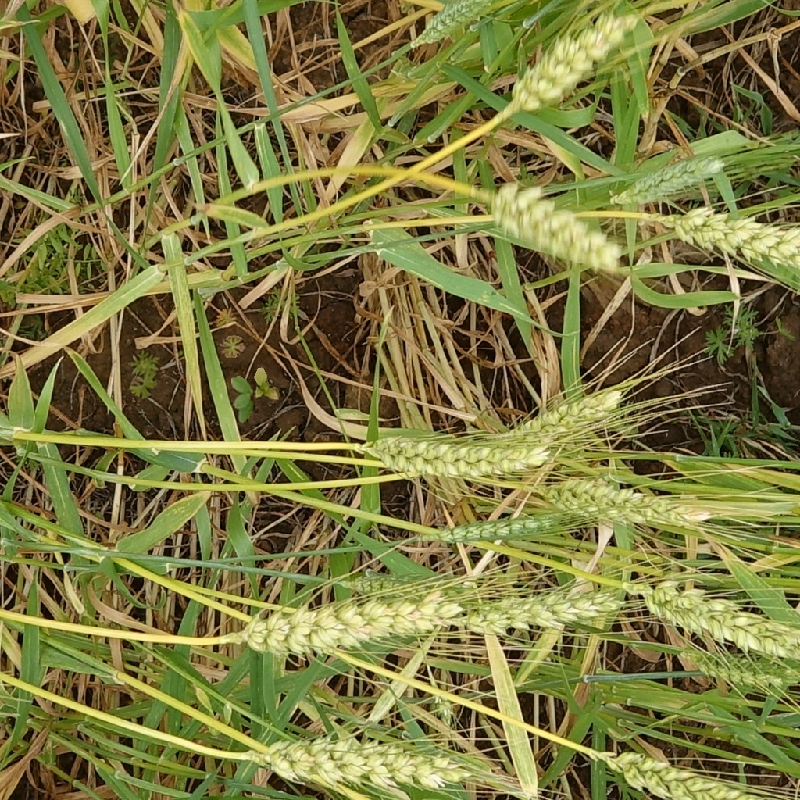spikelet: (232, 589, 460, 661), (501, 5, 643, 115), (483, 171, 628, 275), (640, 573, 800, 662), (254, 729, 473, 794), (359, 425, 558, 486), (666, 199, 800, 282), (545, 470, 711, 535), (490, 379, 631, 451), (604, 746, 779, 800), (461, 580, 621, 639), (606, 146, 730, 207), (678, 644, 798, 694), (432, 506, 561, 549), (339, 564, 451, 610), (411, 1, 501, 46)
weed: (704, 295, 765, 364), (125, 349, 161, 405), (262, 280, 306, 323), (231, 376, 254, 424), (254, 367, 280, 401), (220, 335, 246, 358), (212, 306, 239, 327)
